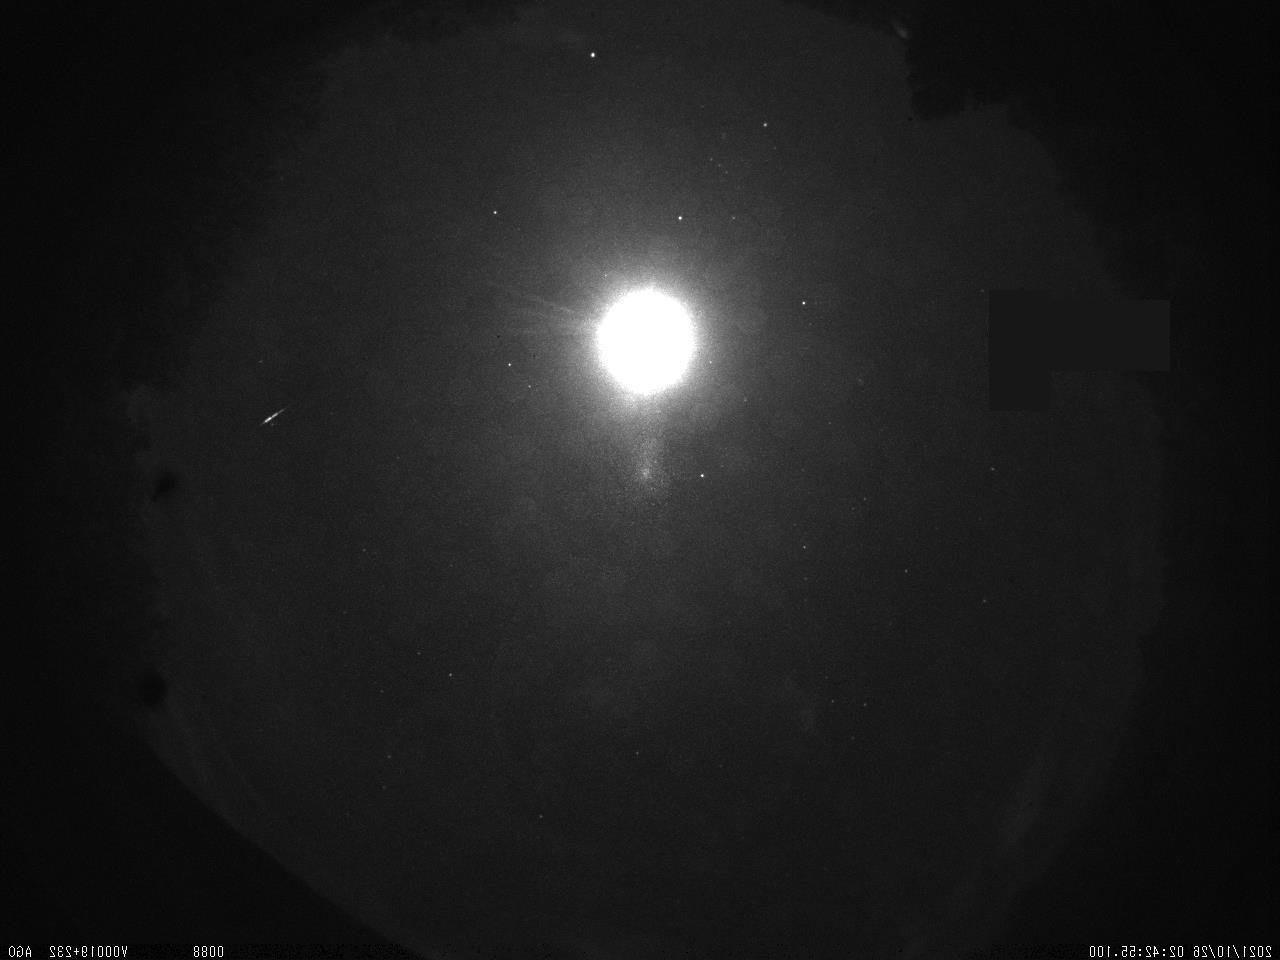meteor: (247, 397, 294, 446)
